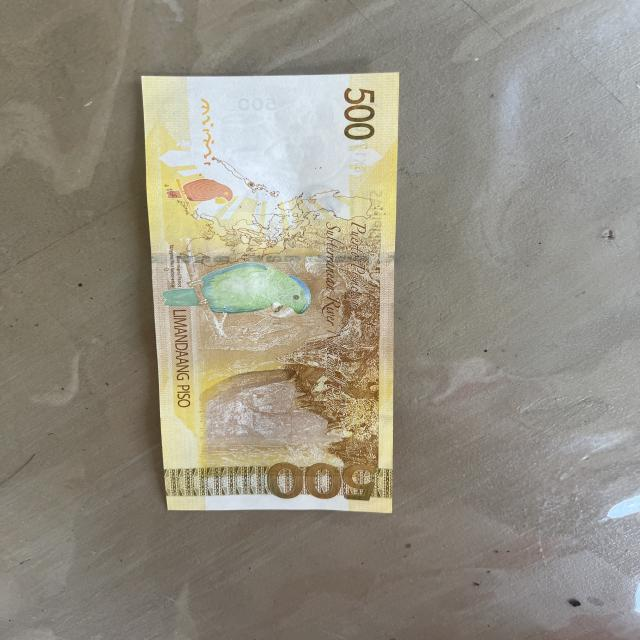500_big_parrot: (168, 258, 310, 322)
500_parrot_watermark: (163, 179, 236, 208)
value_watermark: (236, 95, 283, 114)
watermark: (214, 88, 348, 187)
